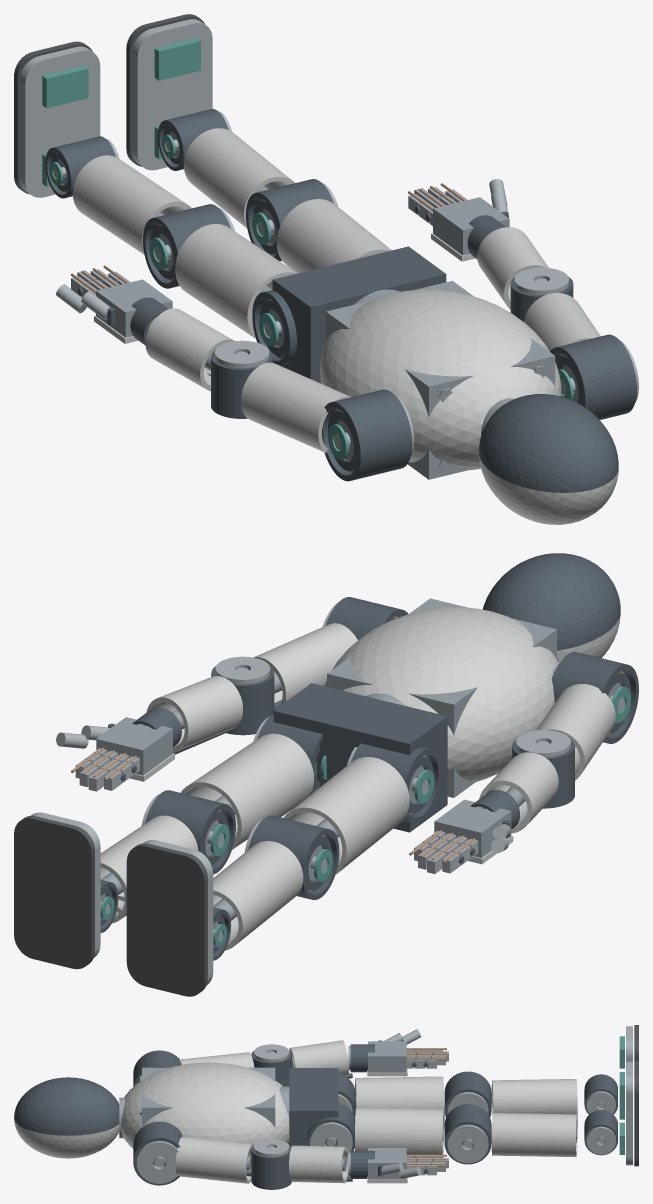
Rendered from assembly.glb.
The picture shows the model from 3 angles, top to bottom: view 1: azimuth 30°, elevation 25°; view 2: azimuth 150°, elevation 25°; view 3: azimuth 270°, elevation 25°; orthographic projection. The views are drawn at different scales.
Parts seen in each view (by area): view 1: part-006, part-001, part-012, part-123, part-126, part-238, part-125, part-237, part-052, part-235, part-018, part-130 (+23 smaller); view 2: part-006, part-127, part-239, part-012, part-001, part-235, part-123, part-125, part-164, part-166, part-052, part-008 (+20 smaller); view 3: part-006, part-001, part-235, part-237, part-012, part-125, part-164, part-123, part-166, part-000, part-054, part-138 (+25 smaller).
Part boxes in pixels (left/top/right/bottom): part-006: left=320, top=289, right=561, bottom=436; part-001: left=479, top=394, right=618, bottom=492; part-012: left=272, top=246, right=446, bottom=383; part-123: left=175, top=224, right=297, bottom=338; part-126: left=20, top=46, right=100, bottom=197; part-238: left=132, top=19, right=212, bottom=170; part-125: left=72, top=155, right=191, bottom=254; part-237: left=183, top=128, right=294, bottom=228; part-052: left=241, top=362, right=351, bottom=452; part-235: left=276, top=199, right=391, bottom=273; part-018: left=322, top=389, right=412, bottom=481; part-130: left=550, top=334, right=636, bottom=419; part-006: left=325, top=607, right=557, bottom=753; part-127: left=126, top=843, right=207, bottom=996; part-239: left=14, top=815, right=94, bottom=969; part-012: left=273, top=683, right=447, bottom=832; part-001: left=482, top=553, right=620, bottom=650; part-235: left=180, top=733, right=314, bottom=849; part-123: left=283, top=757, right=409, bottom=874; part-125: left=213, top=841, right=303, bottom=950; part-164: left=253, top=623, right=357, bottom=706; part-166: left=146, top=676, right=242, bottom=751; part-052: left=536, top=684, right=615, bottom=780; part-008: left=327, top=598, right=556, bottom=797; part-006: left=121, top=1062, right=289, bottom=1144; part-001: left=14, top=1077, right=119, bottom=1135; part-235: left=355, top=1107, right=444, bottom=1157; part-237: left=491, top=1113, right=577, bottom=1156; part-012: left=289, top=1068, right=338, bottom=1146; part-125: left=491, top=1079, right=577, bottom=1116; part-164: left=175, top=1136, right=253, bottom=1183; part-123: left=355, top=1076, right=444, bottom=1117; part-166: left=289, top=1145, right=348, bottom=1183; part-000: left=14, top=1119, right=119, bottom=1158; part-054: left=289, top=1040, right=348, bottom=1076; part-138: left=136, top=1141, right=178, bottom=1183.
Size of the model in its own units: 0.0954 by 0.0357 by 0.1783.
